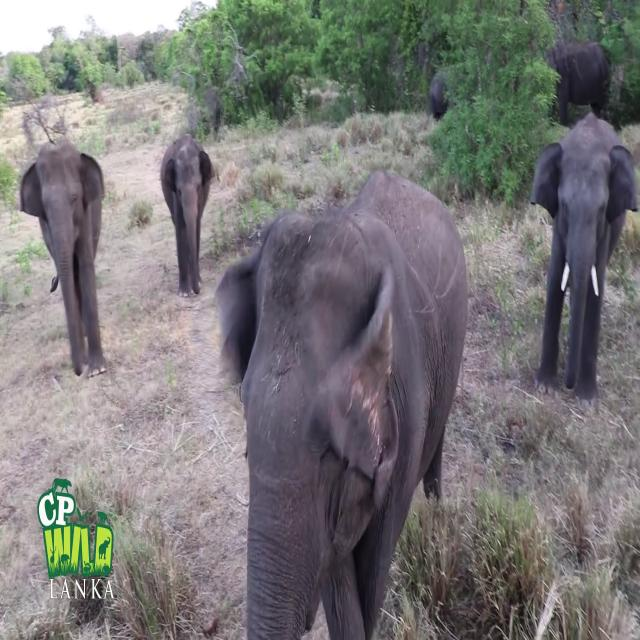Elephant: (214, 167, 468, 639), (530, 111, 639, 404), (19, 138, 107, 378), (160, 133, 214, 297), (544, 39, 612, 126)
